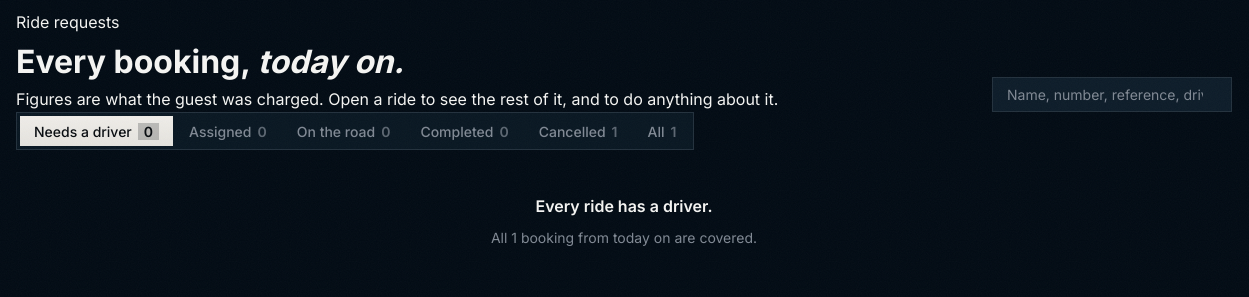
Test: Ride requests › does not offer to assign a ride the database would refuse
Click the button "Cancelled1" at (578, 131), box [525, 116, 632, 146]
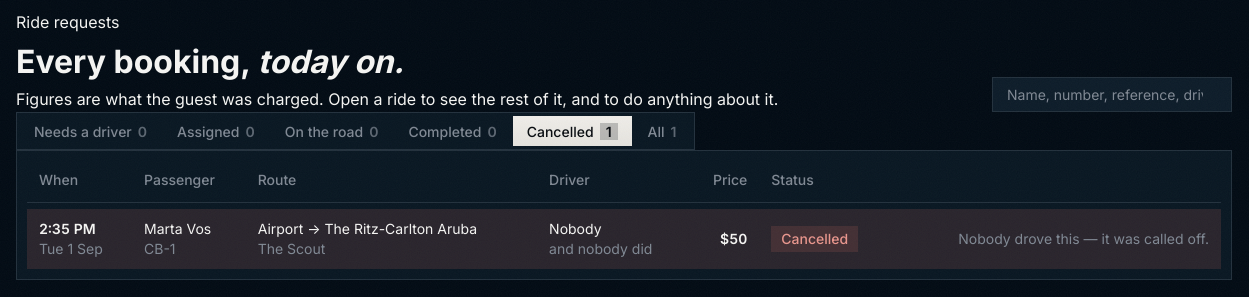
Expected: the text "Nobody drove this — it was called off." is shown, [958, 230, 1209, 247]
